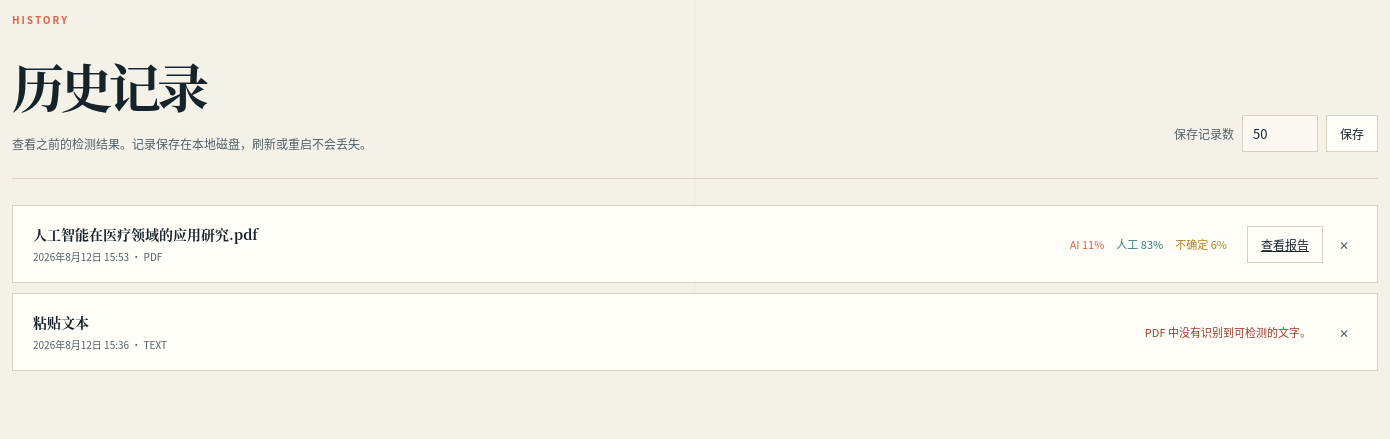
Scenario: keeps an entry visible when the server rejects deletion
The width and height of the screenshot is (1390, 439).
Click the button named "删除 人工智能在医疗领域的应用研究.pdf" at [1344, 244], box top-left (1331, 230), bottom-right (1357, 258)
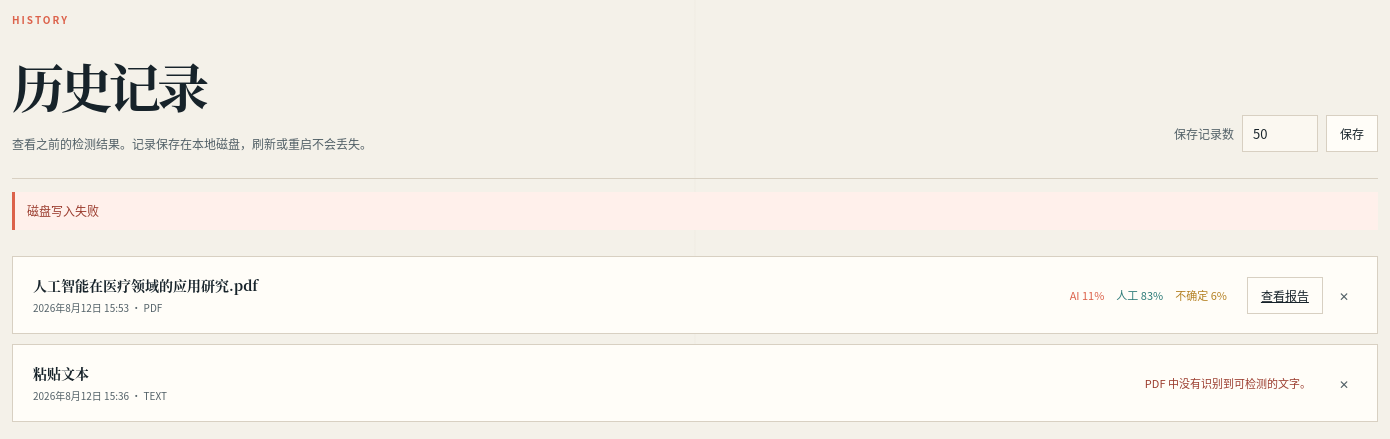
Expected: the text "人工智能在医疗领域的应用研究.pdf" is shown, top-left (33, 275), bottom-right (258, 295)
Result: the message reads "磁盘写入失败" at top-left (27, 202), bottom-right (99, 219)
